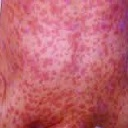Measles: (11, 7, 120, 125)
